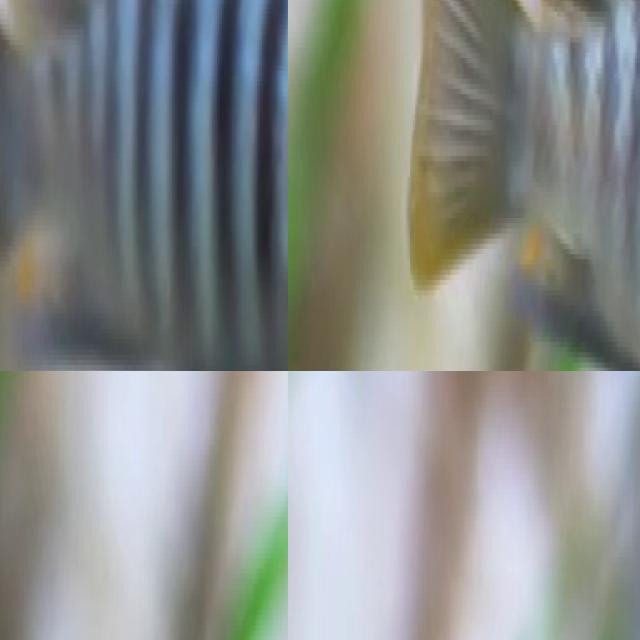fish: (0, 0, 288, 371), (396, 0, 640, 371)
